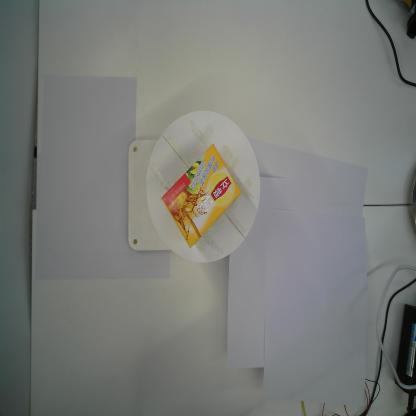Instant Drink: (160, 143, 242, 248)
